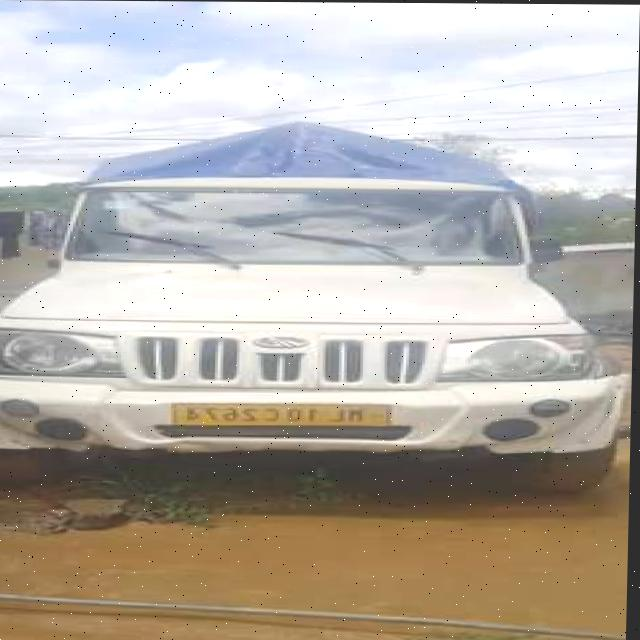plate: (163, 399, 399, 430)
